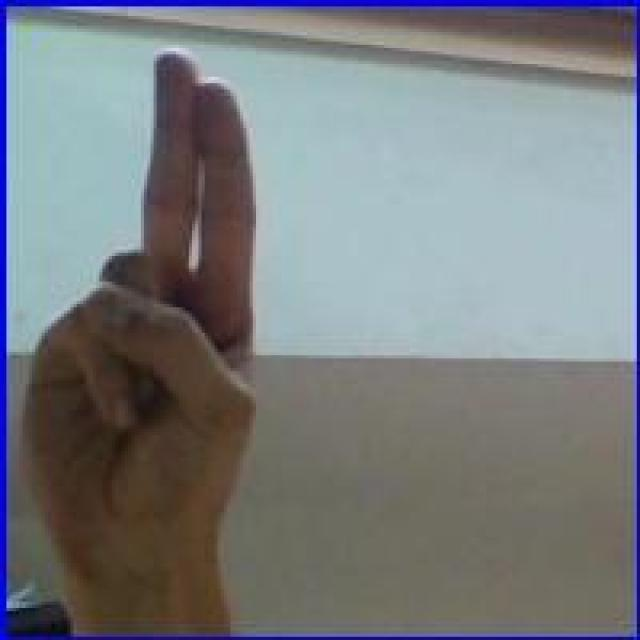U: (21, 44, 264, 602)
